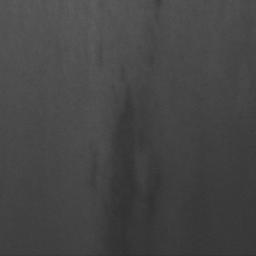Inclusion: (105, 84, 136, 256)
